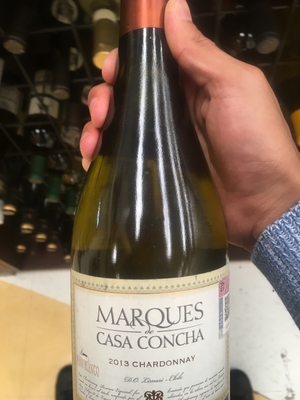marques de casa concha chardonnay: (59, 14, 242, 400)
